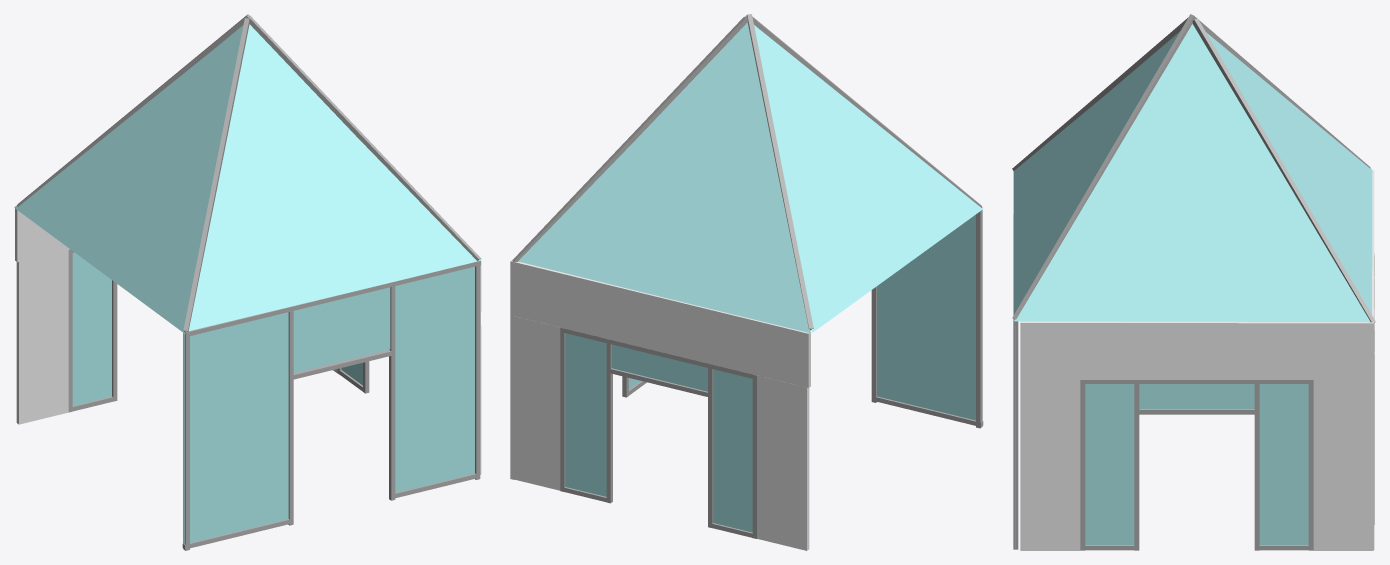
File: entrance.gltf
3 renders of one model, left to right at view 1: azimuth 30°, elevation 25°; view 2: azimuth 150°, elevation 25°; view 3: azimuth 270°, elevation 25°, orthographic. The views are drawn at different scales.
Bounding box in the file's own units: 7.26 × 10.1 × 7.25.
